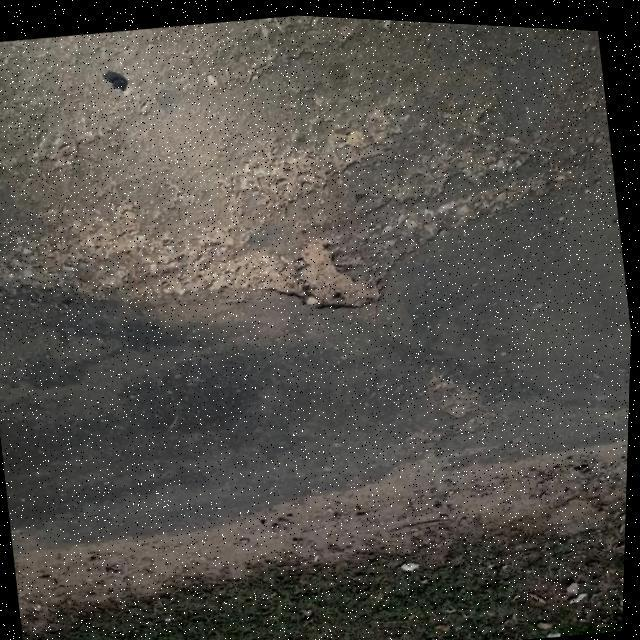pothole: (232, 216, 396, 329)
